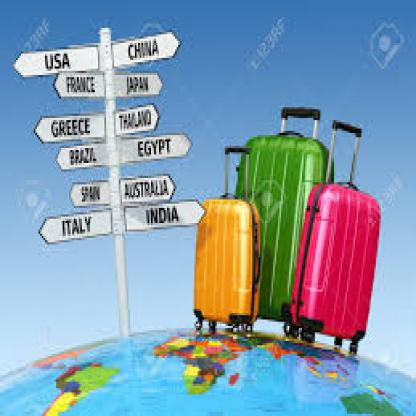maleta: (226, 120, 336, 335), (282, 172, 378, 356), (188, 193, 268, 339)
